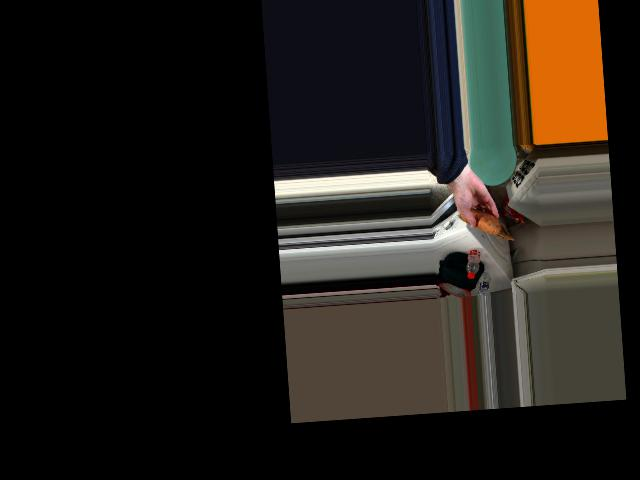sweet_potato: (463, 204, 498, 235)
